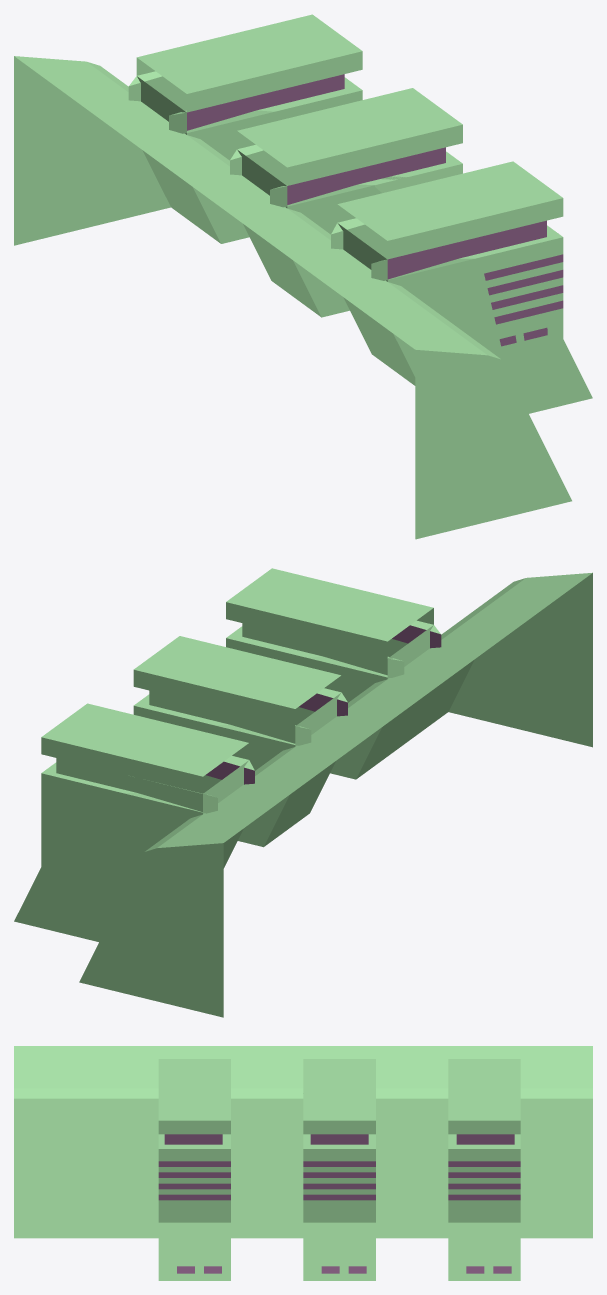
The model's file is building1.glb.
3 renders of one model, top to bottom at view 1: azimuth 30°, elevation 25°; view 2: azimuth 150°, elevation 25°; view 3: azimuth 270°, elevation 25°, orthographic. The views are drawn at different scales.
Parts seen in each view (by area): view 1: building1; view 2: building1; view 3: building1.
Boxes of the visible parts, bbox=[...] form: building1: bbox=[14, 14, 592, 539]; building1: bbox=[14, 568, 592, 1017]; building1: bbox=[14, 1046, 592, 1280].
Bounding box in the file's own units: 23 × 16.4 × 57.5.
